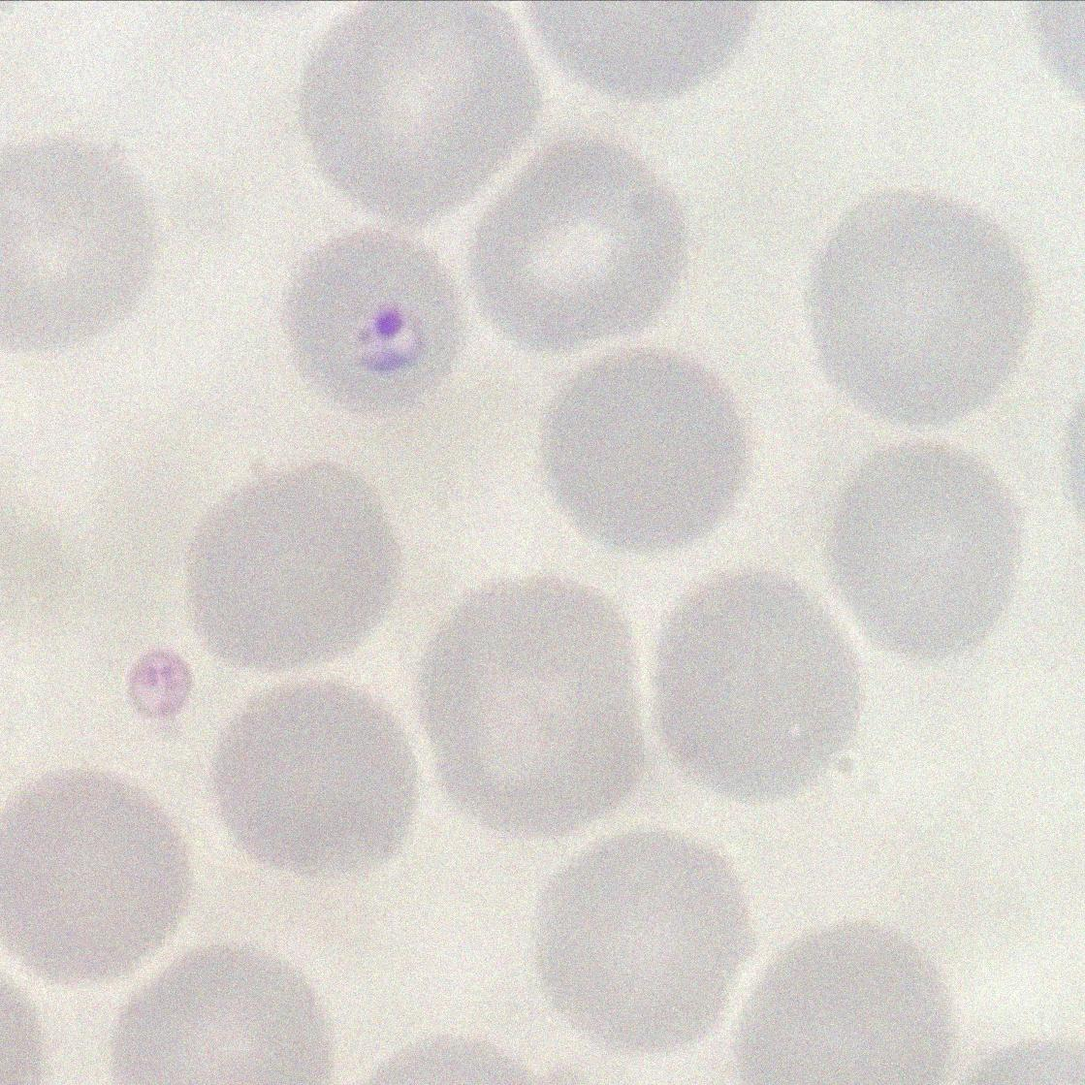Infected: (284, 224, 472, 417)
Uninfected: (420, 580, 646, 831), (805, 182, 1028, 424), (181, 457, 409, 678), (530, 828, 754, 1047), (469, 124, 685, 351), (297, 8, 528, 219), (653, 570, 855, 799), (827, 437, 1028, 652), (217, 680, 424, 885), (0, 777, 196, 980), (0, 130, 164, 359), (553, 357, 746, 547), (727, 922, 944, 1085), (103, 942, 332, 1085)
